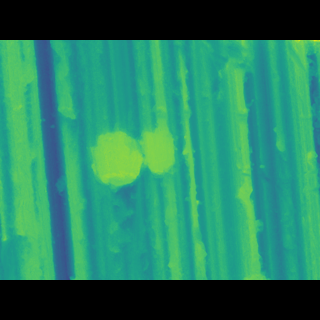Loch: (89, 115, 192, 181), (54, 69, 81, 130)
